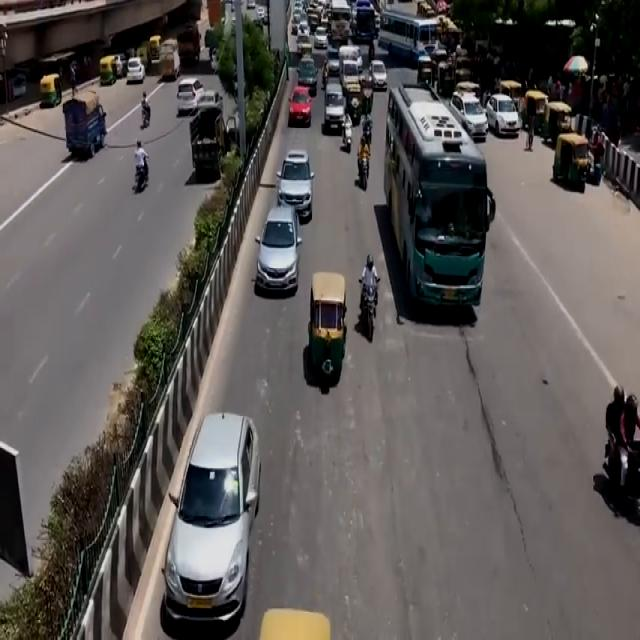BUS: (387, 81, 494, 318), (378, 4, 442, 62)
MOTORCYCLE: (359, 278, 378, 340), (135, 153, 150, 194)
